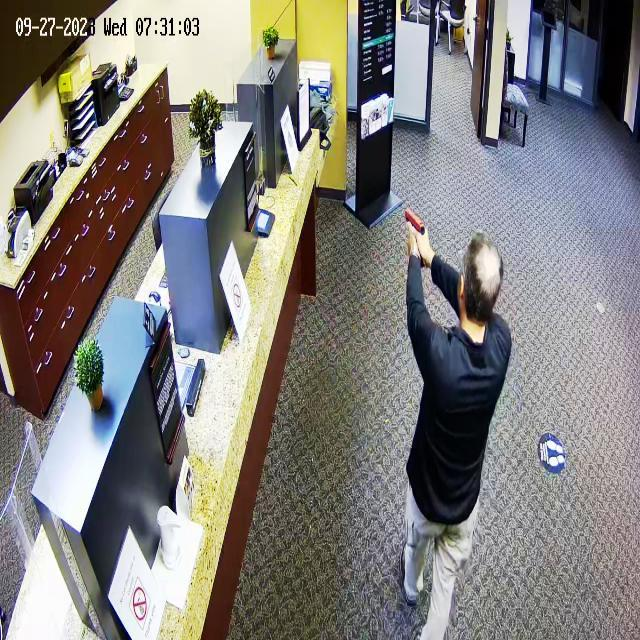Gun: (392, 199, 431, 252)
